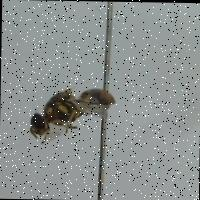Oriental-fruit-fly: (22, 80, 121, 144)
